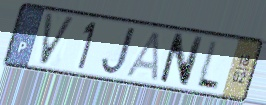1: (76, 20, 98, 72)
A: (123, 29, 163, 83)
J: (99, 24, 139, 76)
L: (193, 38, 221, 93)
N: (156, 31, 206, 89)
V: (39, 11, 78, 68)
